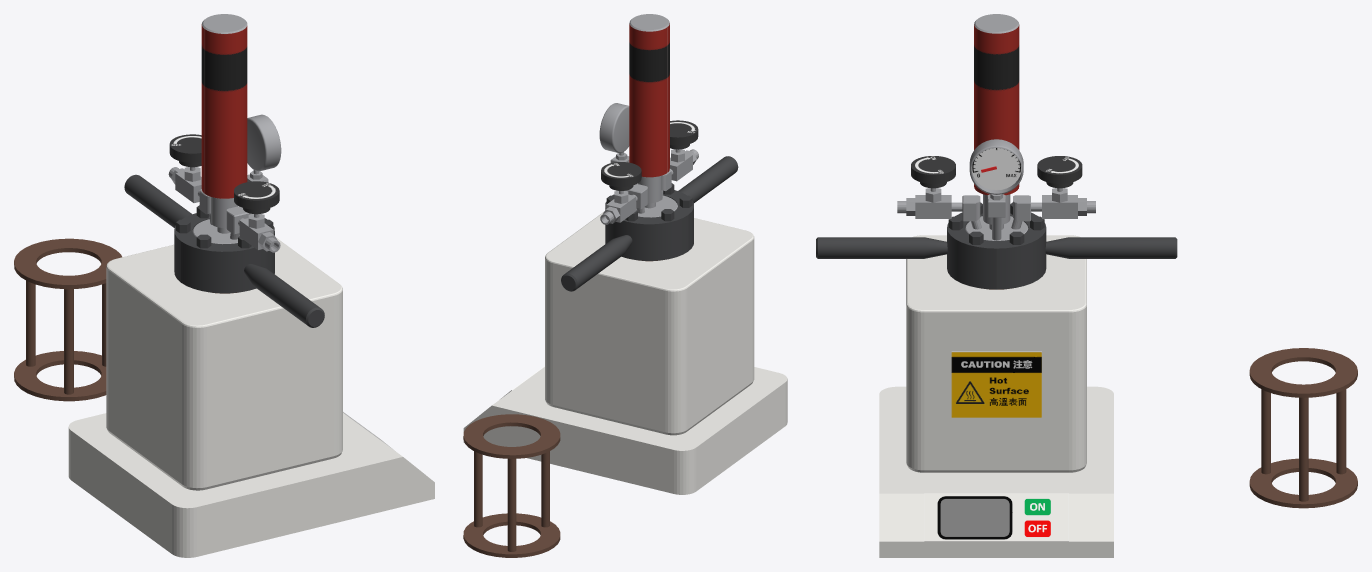
Rendered from Reactor.fbx.
The picture shows the model from 3 angles, left to right: view 1: azimuth 30°, elevation 25°; view 2: azimuth 150°, elevation 25°; view 3: azimuth 270°, elevation 25°; orthographic projection. The views are drawn at different scales.
Parts seen in each view (by area): view 1: Reactor Protection Module, Reactor Platform, Support Stand, Agitator Surface, Kettle HandleL, Kettle HandleR, Pressure Gauge Body, Intake Pipe, Agitator Body, Exhaust Pipe, Intake Valve Indicator, Exhaust Valve Indicator (+2 smaller); view 2: Reactor Protection Module, Reactor Platform, Support Stand, Agitator Surface, Kettle HandleR, Kettle HandleL, Pressure Gauge Body, Exhaust Pipe, Agitator Body, Intake Pipe, Exhaust Valve Indicator, Intake Valve Indicator (+2 smaller); view 3: Reactor Protection Module, Reactor Platform, Support Stand, Reactor Panel, Reactor Caution Hot, Kettle HandleR, Kettle HandleL, Agitator Surface, Intake Pipe, Exhaust Pipe, Pressure Gauge Panel, Pressure Gauge Body (+3 smaller).
Part boxes in pixels (x1,y1,x2,y2): Reactor Protection Module: (106, 237, 342, 490); Reactor Platform: (68, 413, 434, 557); Support Stand: (14, 238, 121, 401); Agitator Surface: (201, 24, 247, 198); Kettle HandleL: (181, 219, 324, 327); Kettle HandleR: (124, 174, 266, 282); Pressure Gauge Body: (247, 114, 281, 214); Intake Pipe: (226, 206, 280, 252); Agitator Body: (202, 14, 247, 233); Exhaust Pipe: (168, 167, 211, 224); Intake Valve Indicator: (234, 181, 279, 201); Exhaust Valve Indicator: (169, 134, 201, 154); Reactor Protection Module: (545, 212, 754, 435); Reactor Platform: (463, 367, 787, 494); Support Stand: (463, 414, 560, 557); Agitator Surface: (629, 23, 669, 177); Kettle HandleR: (561, 195, 688, 291); Kettle HandleL: (612, 156, 738, 250); Pressure Gauge Body: (599, 103, 629, 191); Exhaust Pipe: (600, 184, 647, 224); Agitator Body: (629, 14, 669, 208); Intake Pipe: (660, 149, 698, 200); Exhaust Valve Indicator: (601, 162, 641, 179); Intake Valve Indicator: (670, 120, 698, 138); Reactor Protection Module: (906, 235, 1086, 472); Reactor Platform: (879, 386, 1113, 557); Support Stand: (1249, 348, 1357, 508); Reactor Panel: (924, 493, 1068, 541); Reactor Caution Hot: (951, 351, 1041, 417); Kettle HandleR: (996, 202, 1177, 289); Kettle HandleL: (816, 202, 996, 289); Agitator Surface: (974, 24, 1019, 195); Intake Pipe: (897, 188, 981, 229); Exhaust Pipe: (1011, 188, 1095, 229); Pressure Gauge Panel: (971, 148, 1021, 190); Pressure Gauge Body: (969, 139, 1023, 240).
Bounding box in the file's own units: 60 × 32.07 × 56.5.
12 materials, 6 textured.
